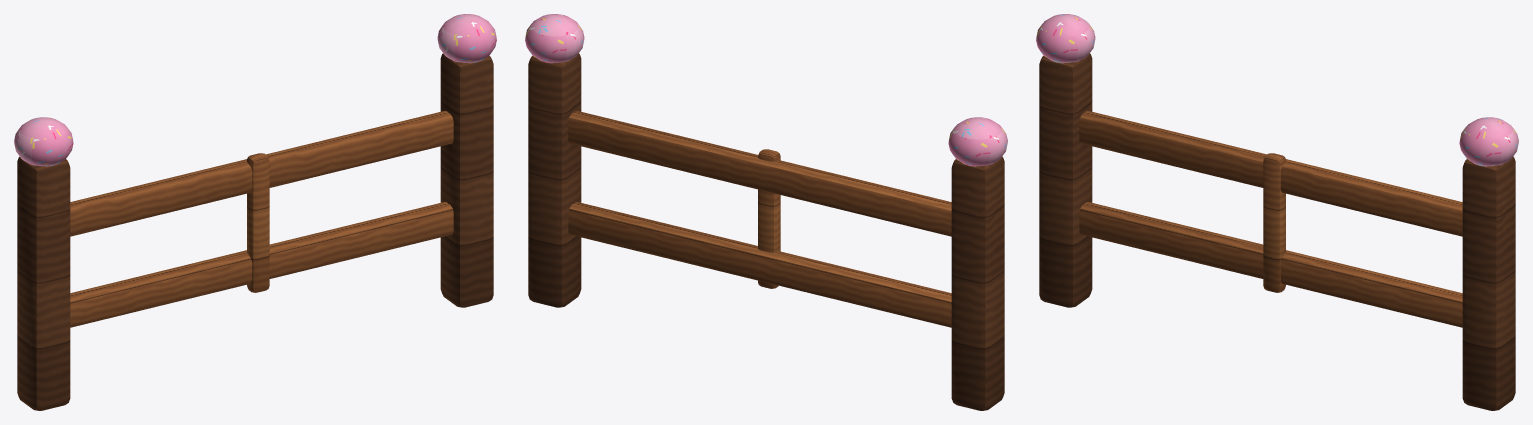
The model's file is GIN_WoodFence.fbx.
3 views of the same model, side by side, from view 1: azimuth 30°, elevation 25°; view 2: azimuth 150°, elevation 25°; view 3: azimuth 330°, elevation 25° (orthographic).
Visible parts, largest first — view 1: GIN_WoodFence; view 2: GIN_WoodFence; view 3: GIN_WoodFence.
Part boxes in pixels (x1,y1,x2,y2): GIN_WoodFence: (14,14,496,410); GIN_WoodFence: (525,14,1007,410); GIN_WoodFence: (1036,14,1518,410).
Size of the model in its own units: 2.02 by 1.15 by 0.22.
